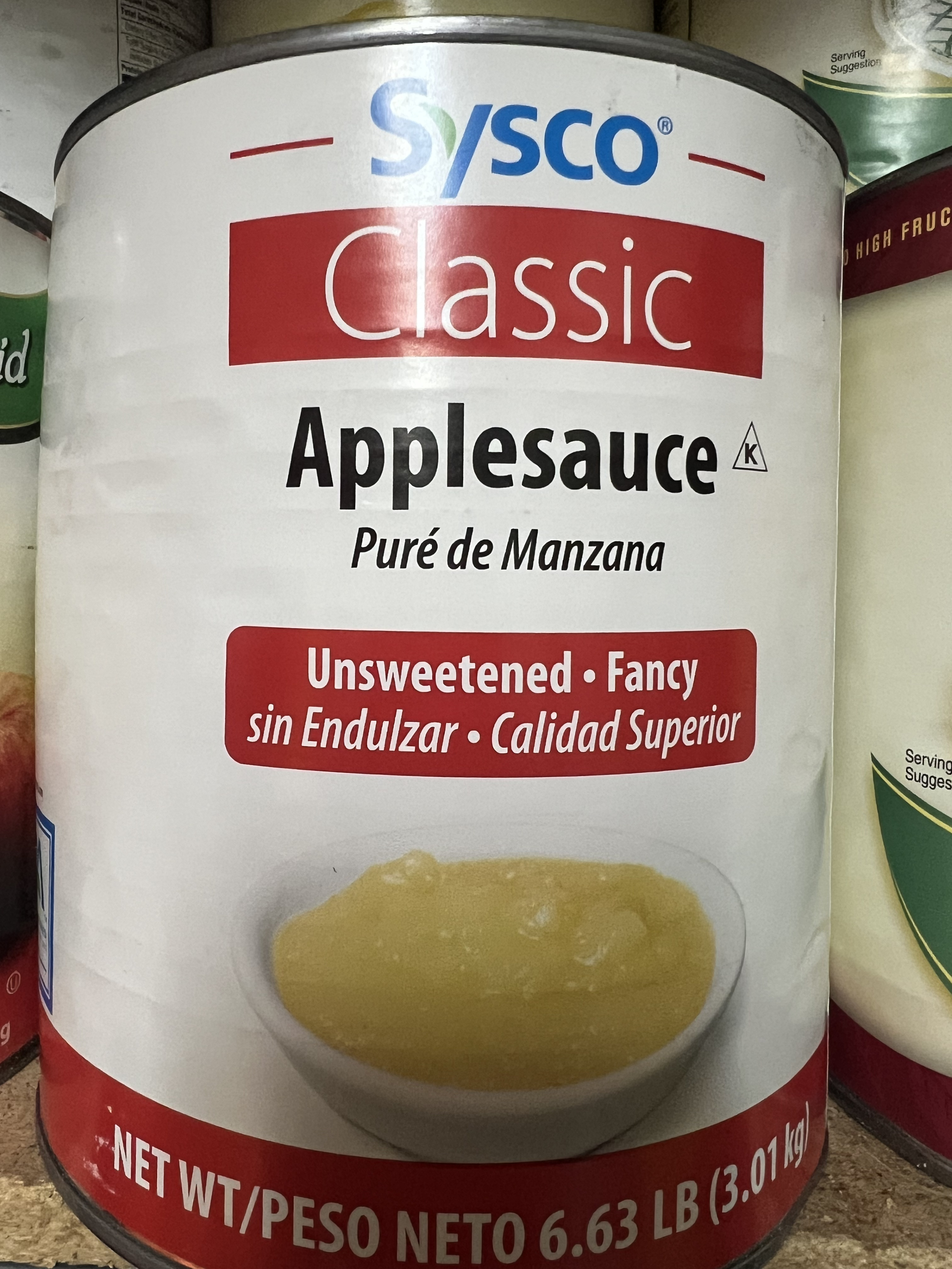packaged: (30, 36, 850, 1269)
